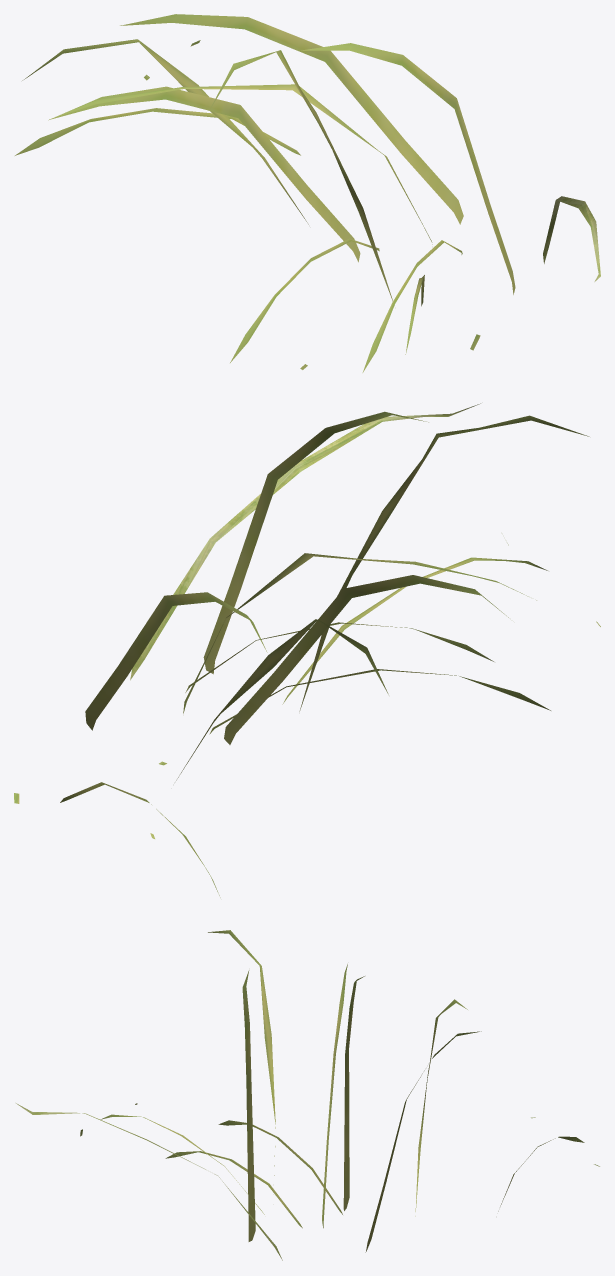
Rendered from grass_meadow_lod2.glb.
3 renders of one model, top to bottom at view 1: azimuth 30°, elevation 25°; view 2: azimuth 150°, elevation 25°; view 3: azimuth 270°, elevation 25°, orthographic. The views are drawn at different scales.
Visible parts, largest first — view 1: bq_Grass_Bromus-erectus_A_winter; view 2: bq_Grass_Bromus-erectus_A_winter; view 3: bq_Grass_Bromus-erectus_A_winter.
Boxes of the visible parts, bbox=[...] form: bq_Grass_Bromus-erectus_A_winter: bbox=[15, 14, 600, 372]; bq_Grass_Bromus-erectus_A_winter: bbox=[14, 403, 600, 897]; bq_Grass_Bromus-erectus_A_winter: bbox=[16, 930, 599, 1260].
Size of the model in its own units: 0.4641 by 0.3125 by 0.7688.
1 material, 1 textured.
